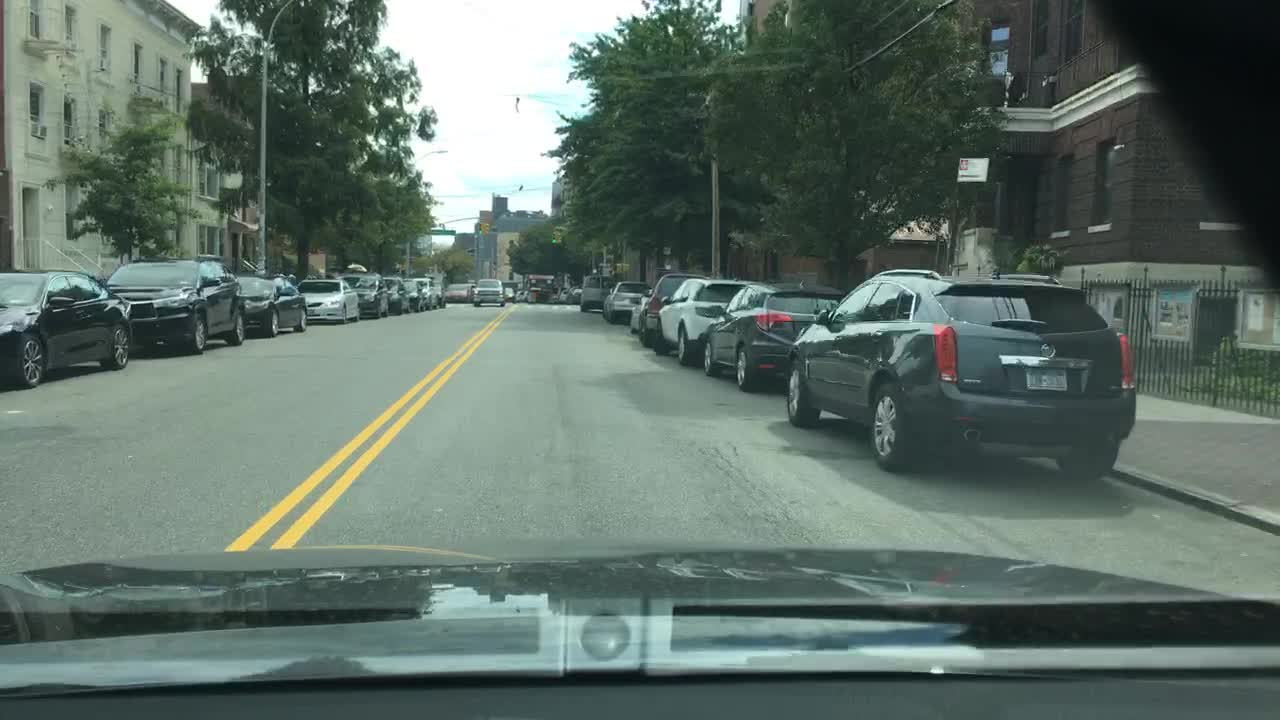car: (781, 267, 1140, 482), (699, 279, 851, 391), (0, 269, 135, 389), (100, 255, 245, 356), (650, 274, 764, 367), (635, 270, 711, 349), (229, 270, 308, 339), (294, 274, 362, 325), (600, 277, 654, 328), (337, 269, 390, 319), (575, 274, 617, 312), (379, 274, 411, 314), (409, 276, 437, 309), (400, 279, 426, 314), (444, 283, 477, 304), (430, 276, 451, 307), (533, 283, 559, 304), (566, 279, 584, 304), (521, 284, 542, 304), (554, 284, 570, 304), (501, 285, 515, 304), (513, 285, 527, 304)
traffic light: (546, 227, 562, 244), (473, 220, 487, 237)
traffic sign: (953, 153, 988, 181), (427, 227, 453, 237)
